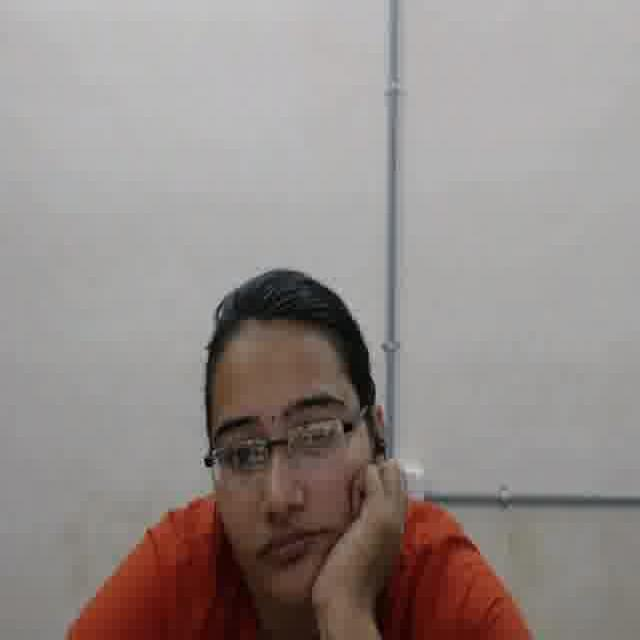Frustration: (205, 352, 364, 611)
